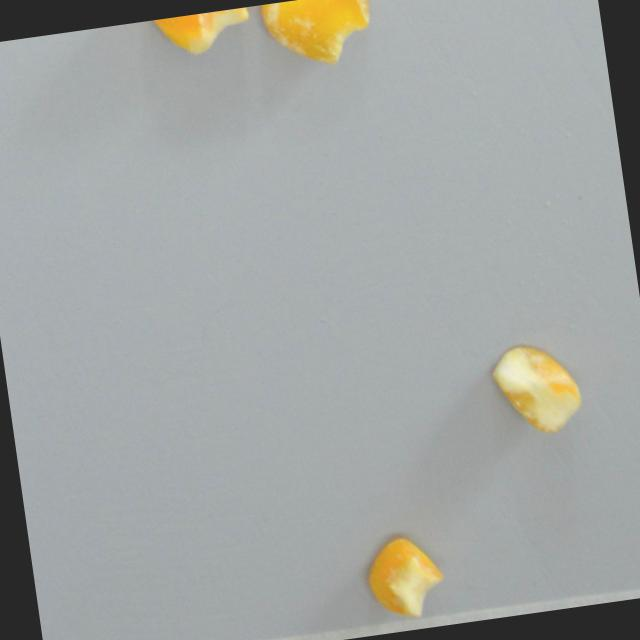no_desgerminado: (359, 531, 451, 628)
pelicula: (483, 336, 590, 446), (256, 0, 380, 79), (140, 7, 257, 66)
